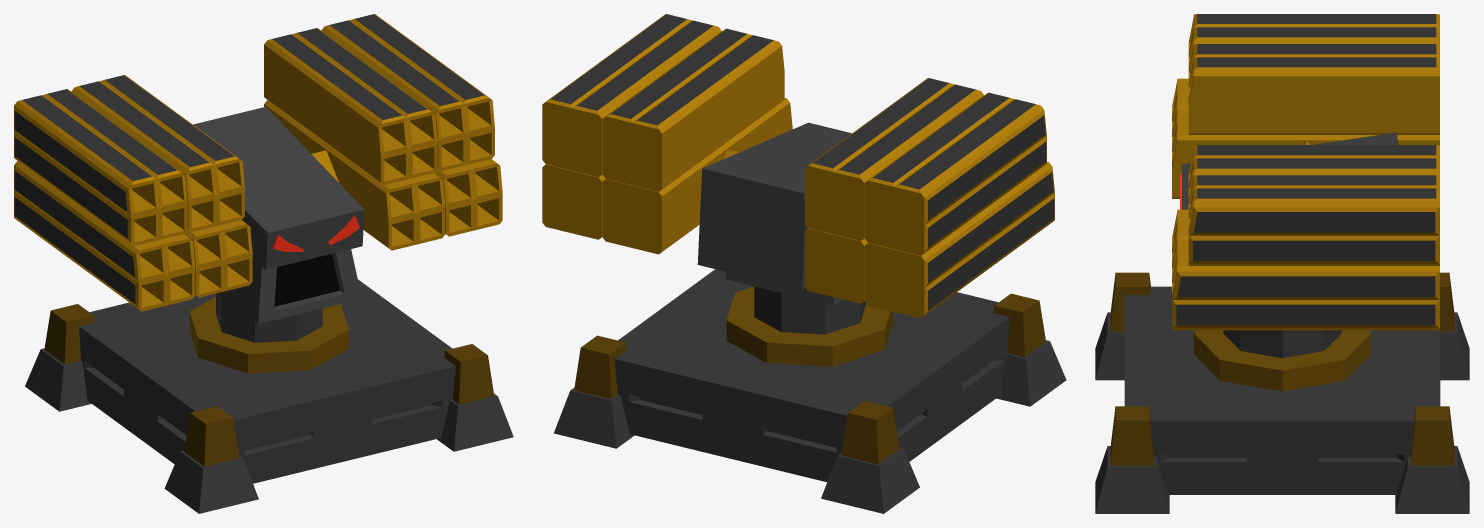
File: turret_missile.glb
3 views of the same model, side by side, from view 1: azimuth 30°, elevation 25°; view 2: azimuth 150°, elevation 25°; view 3: azimuth 270°, elevation 25° (orthographic). The views are drawn at different scales.
Parts seen in each view (by area): view 1: BaseMissileTurret1; view 2: BaseMissileTurret1; view 3: BaseMissileTurret1.
Boxes of the visible parts, x1,y1,x2,y2 form: BaseMissileTurret1: (14, 14, 513, 513); BaseMissileTurret1: (542, 14, 1066, 513); BaseMissileTurret1: (1095, 14, 1469, 513).
Size of the model in its own units: 3.6 by 2.83 by 2.96.
1 material, 1 textured.
